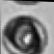correct: (2, 10, 50, 54)
